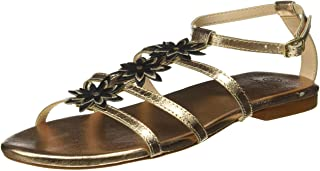shoes: (1, 1, 318, 169)
